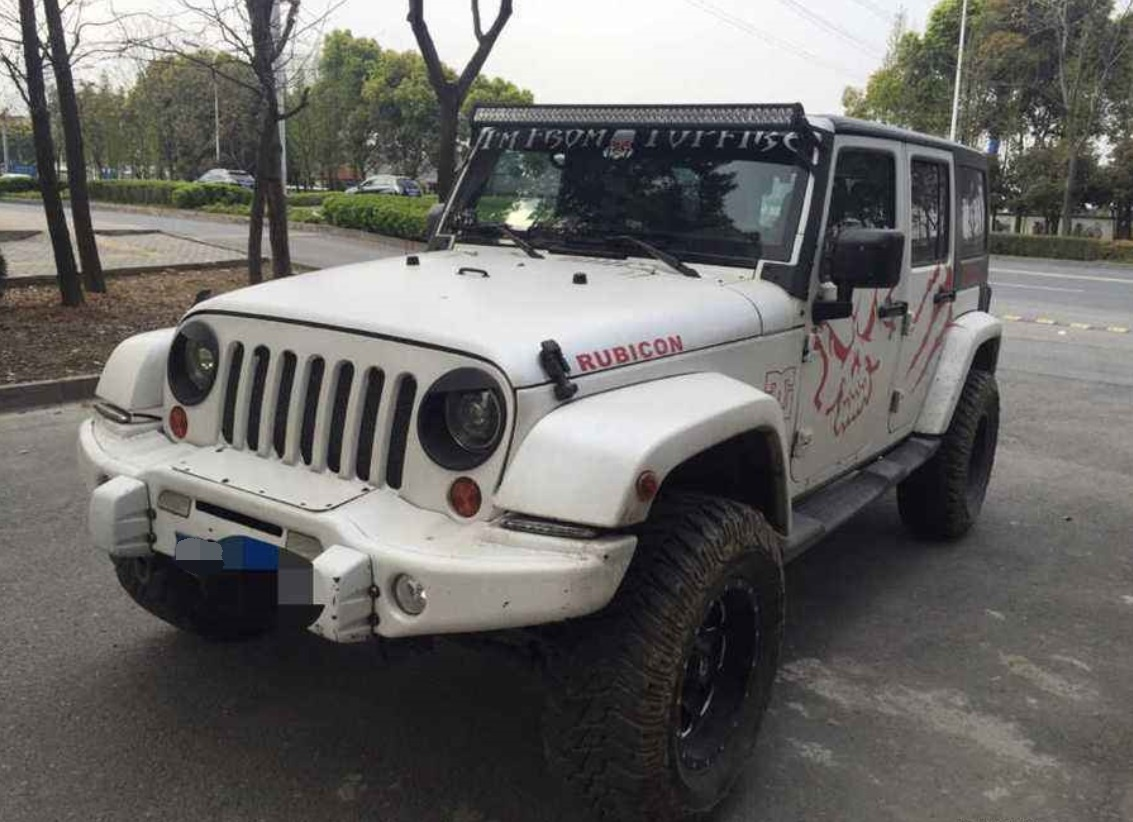jeep: (92, 81, 1007, 797)
